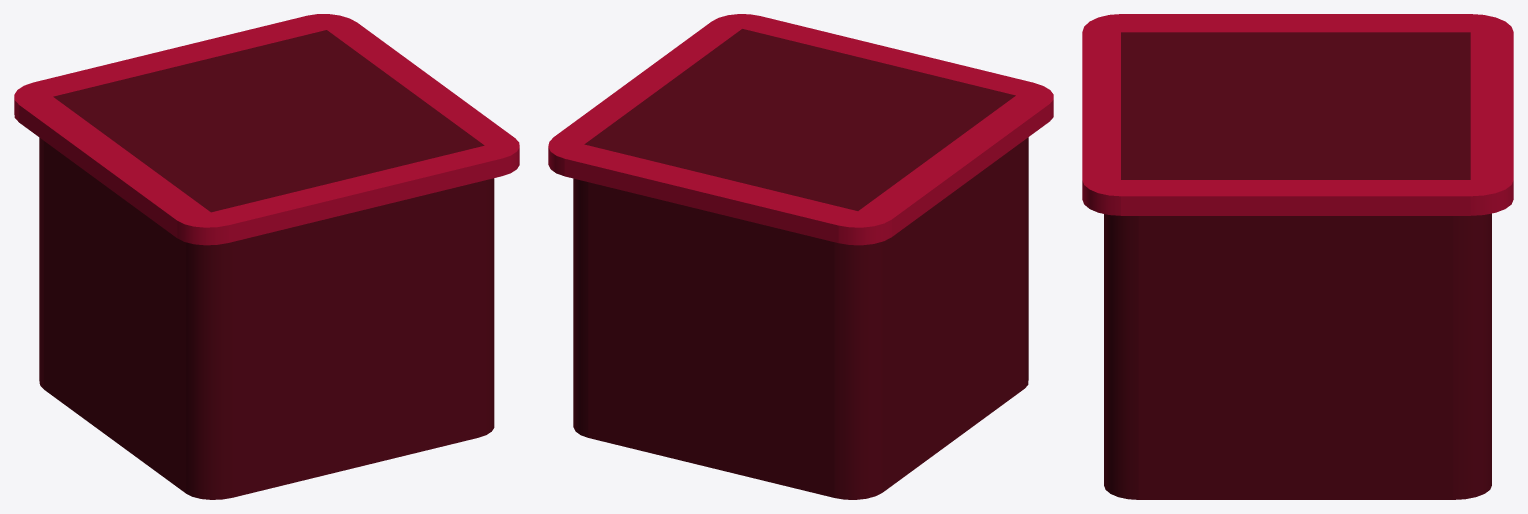
The model's file is Step_Large.glb.
The picture shows the model from 3 angles, left to right: view 1: azimuth 30°, elevation 25°; view 2: azimuth 150°, elevation 25°; view 3: azimuth 270°, elevation 25°; orthographic projection. The views are drawn at different scales.
Parts seen in each view (by area): view 1: Step_Large; view 2: Step_Large; view 3: Step_Large.
Part boxes in pixels (x1=…): Step_Large: x1=14, y1=14, x2=519, y2=499; Step_Large: x1=548, y1=14, x2=1053, y2=499; Step_Large: x1=1082, y1=14, x2=1513, y2=499.
Size of the model in its own units: 2 by 1.6 by 2.
